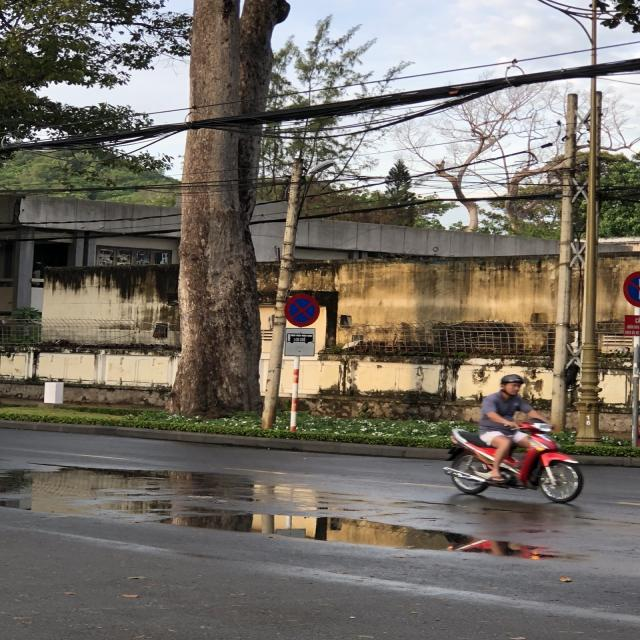Bien bao cam dung xe va do xe: (279, 292, 322, 327)
